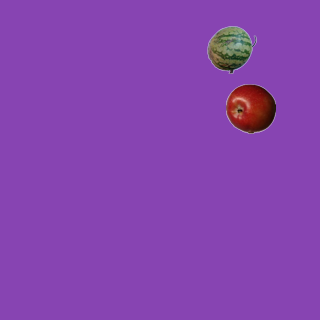Apple Braeburn: (225, 83, 275, 133)
Watermelon: (206, 24, 256, 74)
